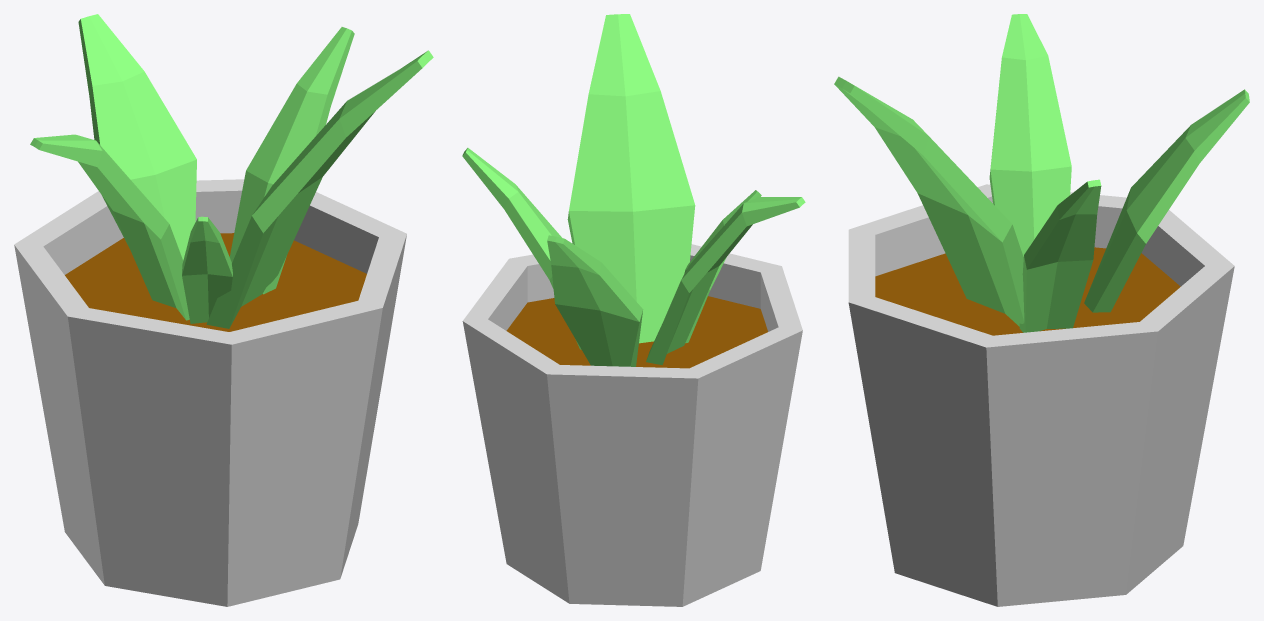
Rendered from Vase2.fbx.
3 views of the same model, side by side, from view 1: azimuth 30°, elevation 25°; view 2: azimuth 150°, elevation 25°; view 3: azimuth 270°, elevation 25° (orthographic). The views are drawn at different scales.
Parts seen in each view (by area): view 1: Vase; view 2: Vase; view 3: Vase.
Boxes of the visible parts, left/top/right/bottom form: Vase: left=14, top=14, right=433, bottom=606; Vase: left=462, top=14, right=805, bottom=606; Vase: left=834, top=14, right=1249, bottom=606.
Size of the model in its own units: 15.76 by 22.3 by 16.15.
